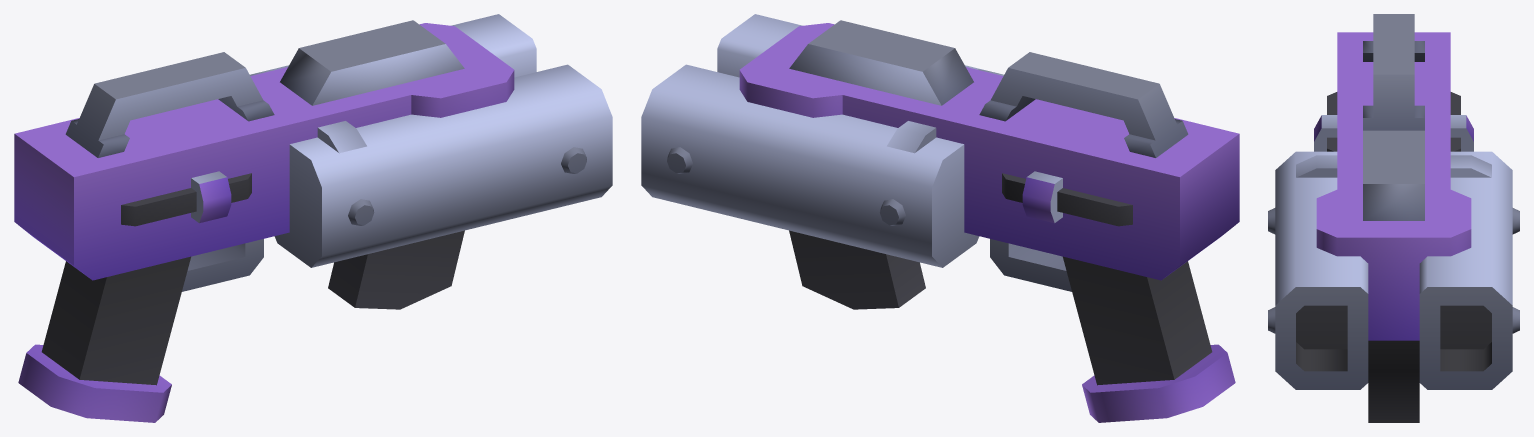
File: Blaster_Flame.obj
3 renders of one model, left to right at view 1: azimuth 30°, elevation 25°; view 2: azimuth 150°, elevation 25°; view 3: azimuth 270°, elevation 25°, orthographic. The views are drawn at different scales.
Parts seen in each view (by area): view 1: blaster-l; view 2: blaster-l; view 3: blaster-l.
Part boxes in pixels (left/top/right/bottom): blaster-l: left=14, top=14, right=612, bottom=422; blaster-l: left=641, top=14, right=1239, bottom=422; blaster-l: left=1268, top=14, right=1519, bottom=422.
Size of the model in its own units: 0.5503 by 0.3279 by 0.2438.
Materials: 1 (1 with a texture image).
